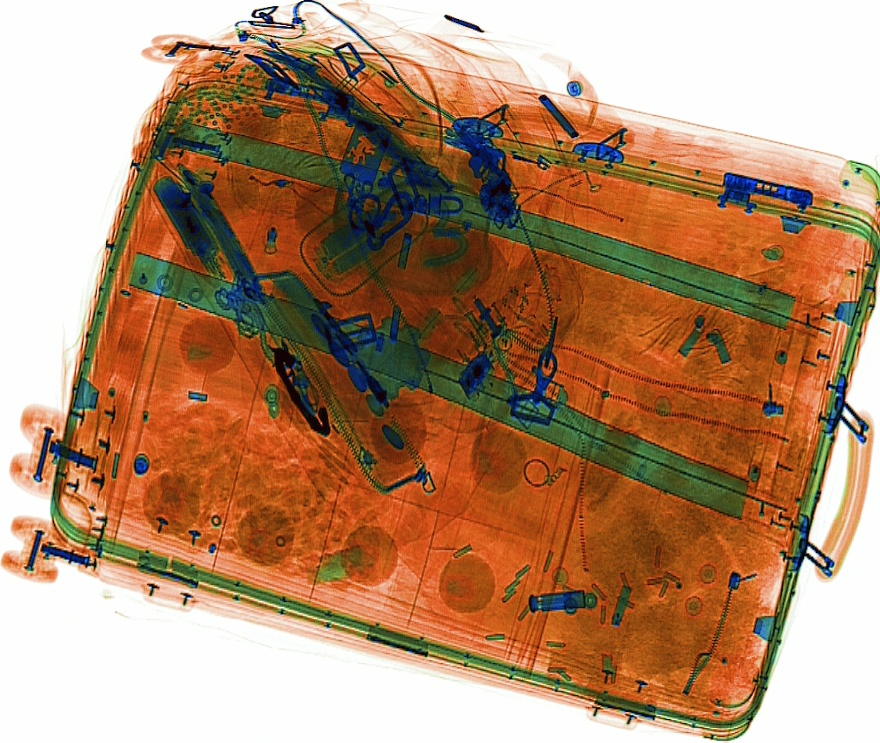powerbank: (145, 170, 231, 288)
